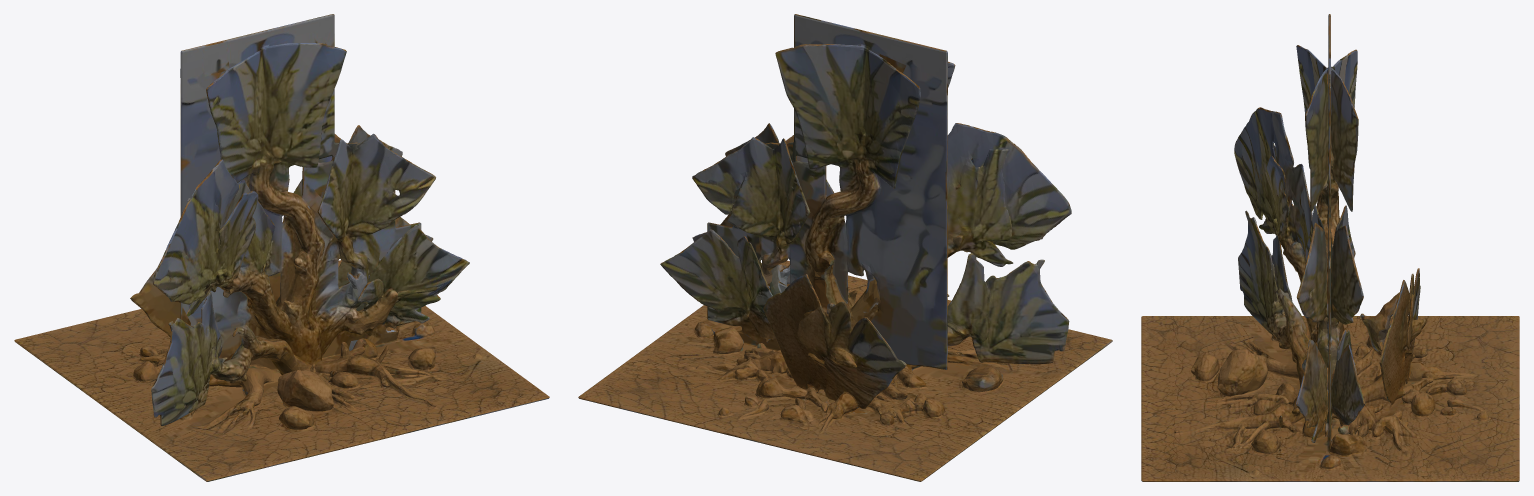
The model's file is desert-cactus-bush-3.glb.
3 renders of one model, left to right at view 1: azimuth 30°, elevation 25°; view 2: azimuth 150°, elevation 25°; view 3: azimuth 270°, elevation 25°, orthographic.
Visible parts, largest first — view 1: textured_mesh.obj; view 2: textured_mesh.obj; view 3: textured_mesh.obj.
Part boxes in pixels (x1,y1,x2,y2): textured_mesh.obj: [14, 14, 549, 481]; textured_mesh.obj: [578, 14, 1112, 481]; textured_mesh.obj: [1141, 14, 1519, 481].
Size of the model in its own units: 1.99 by 1.89 by 1.9.
1 material, 1 textured.
